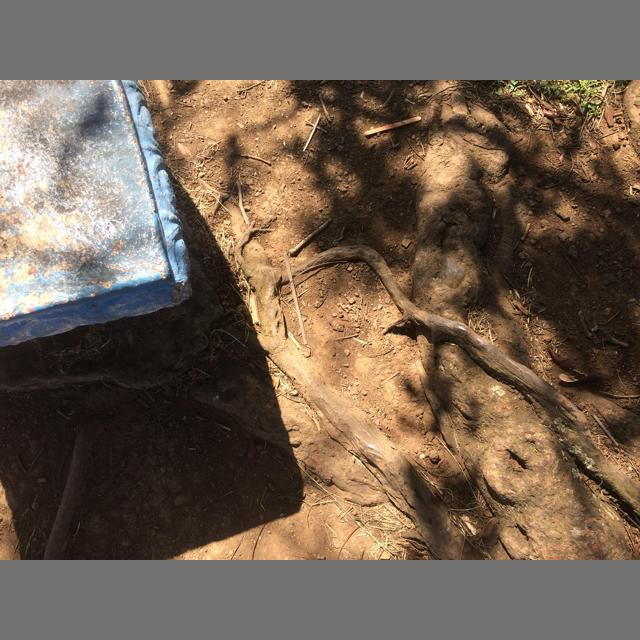litter: (283, 251, 307, 344), (303, 116, 320, 152)
